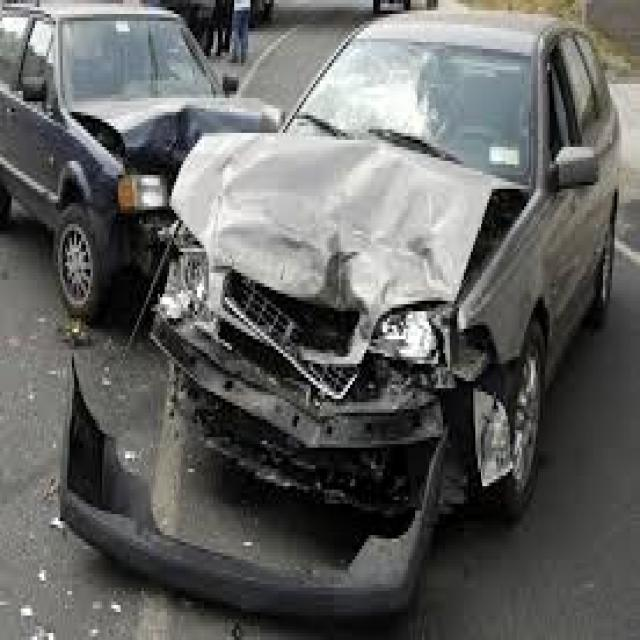accident: (30, 4, 536, 560)
